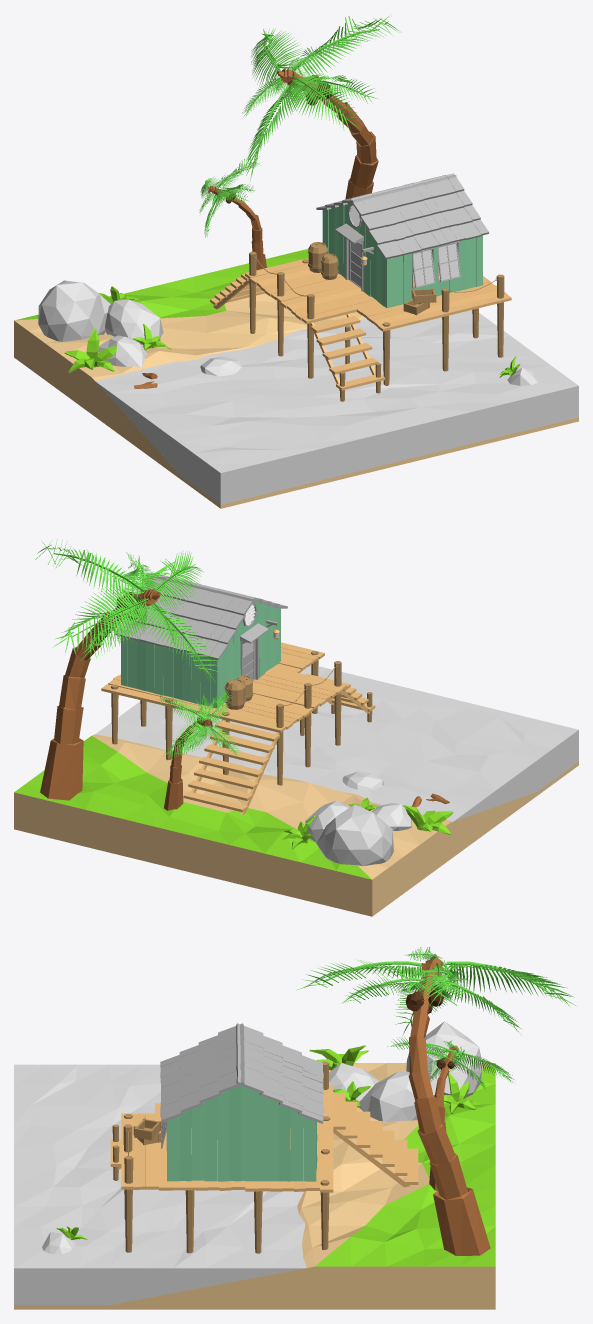
The model's file is paradise beach1.fbx.
3 renders of one model, top to bottom at view 1: azimuth 30°, elevation 25°; view 2: azimuth 150°, elevation 25°; view 3: azimuth 270°, elevation 25°, orthographic. The views are drawn at different scales.
Parts seen in each view (by area): view 1: Вода, Земля, Icosphere, Cylinder, Icosphere.001, Icosphere.002, Cube.942, Cube.975, Cylinder.009, Cube.1020, Cube.1019, Cube.1000 (+10 smaller); view 2: Земля, Вода, Cylinder, Icosphere, Cube.941, Cylinder.009, Cube.975, Icosphere.001, Icosphere.002, Cube.999, Cube.940, Cube.1000 (+22 smaller); view 3: Вода, Земля, Cylinder, Icosphere, Icosphere.001, Cube.1009, Cube.988, Cube.941, Cube.987, Cube.989, Cube.993, Cube.964 (+36 smaller).
Part boxes in pixels (x1,y1,x2,y2): Вода: (95,310,578,504); Земля: (14,249,578,508); Icosphere: (38,280,110,341); Cylinder: (277,68,378,199); Icosphere.001: (105,299,163,344); Icosphere.002: (98,335,146,367); Cube.942: (377,294,511,331); Cube.975: (316,196,394,259); Cylinder.009: (208,186,266,270); Cube.1020: (438,243,460,281); Cube.1019: (413,249,435,287); Cube.1000: (343,192,412,254); Земля: (14,734,578,916); Вода: (95,665,578,821); Cylinder: (40,589,160,800); Icosphere: (316,804,393,866); Cube.941: (101,684,286,732); Cylinder.009: (164,719,212,810); Cube.975: (209,595,287,659); Icosphere.001: (305,800,350,842); Icosphere.002: (371,803,411,830); Cube.999: (200,593,245,657); Cube.940: (108,679,292,729); Cube.1000: (191,591,236,655); Вода: (14,1064,306,1305); Земля: (14,1063,495,1309); Cylinder: (408,954,490,1255); Icosphere: (406,1021,481,1097); Icosphere.001: (359,1071,436,1122); Cube.1009: (161,1077,323,1123); Cube.988: (241,1086,254,1181); Cube.941: (320,1086,333,1192); Cube.987: (229,1085,241,1181); Cube.989: (254,1091,266,1181); Cube.993: (204,1097,217,1181); Cube.964: (218,1090,229,1181).
Size of the model in its own units: 739 by 522 by 830.
